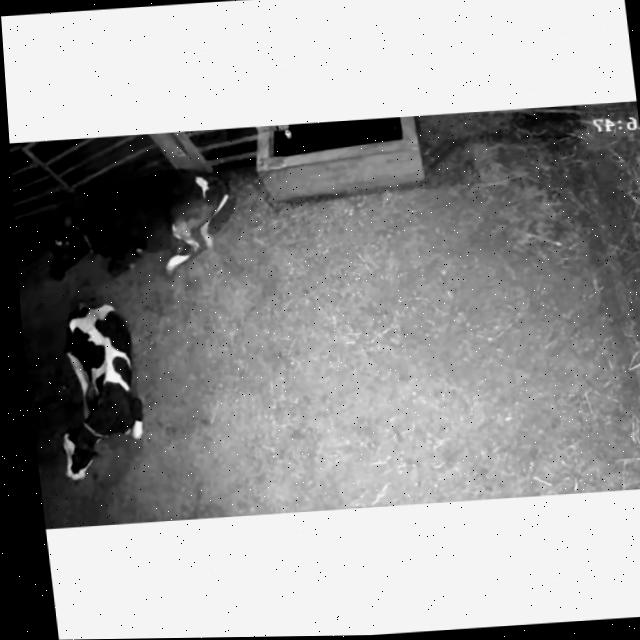lay: (23, 159, 252, 295), (23, 288, 161, 499)
